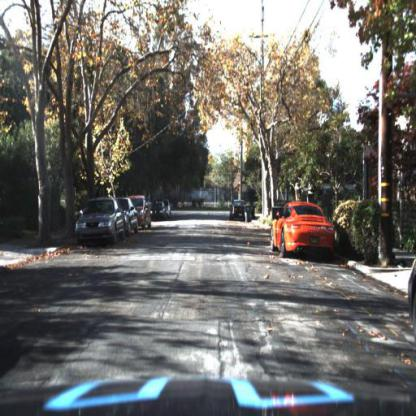car: (269, 200, 339, 259), (74, 198, 129, 244), (134, 195, 152, 234), (125, 196, 139, 242), (138, 192, 152, 234), (229, 201, 250, 224)
